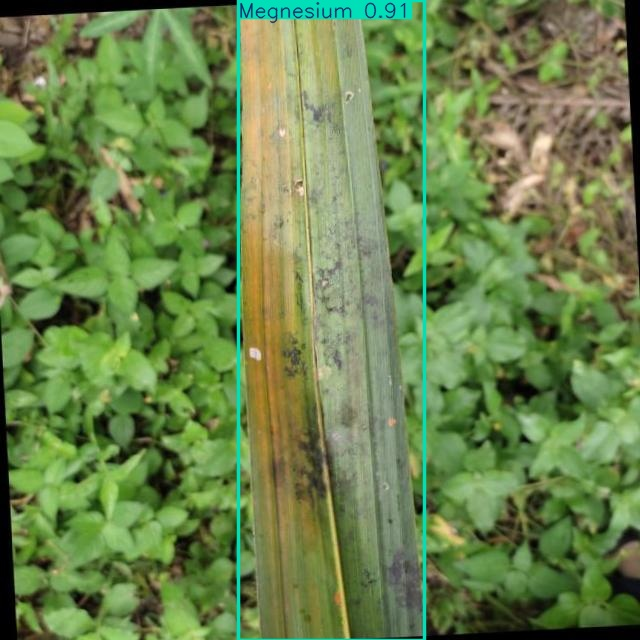Megnesium: (238, 0, 424, 640)
